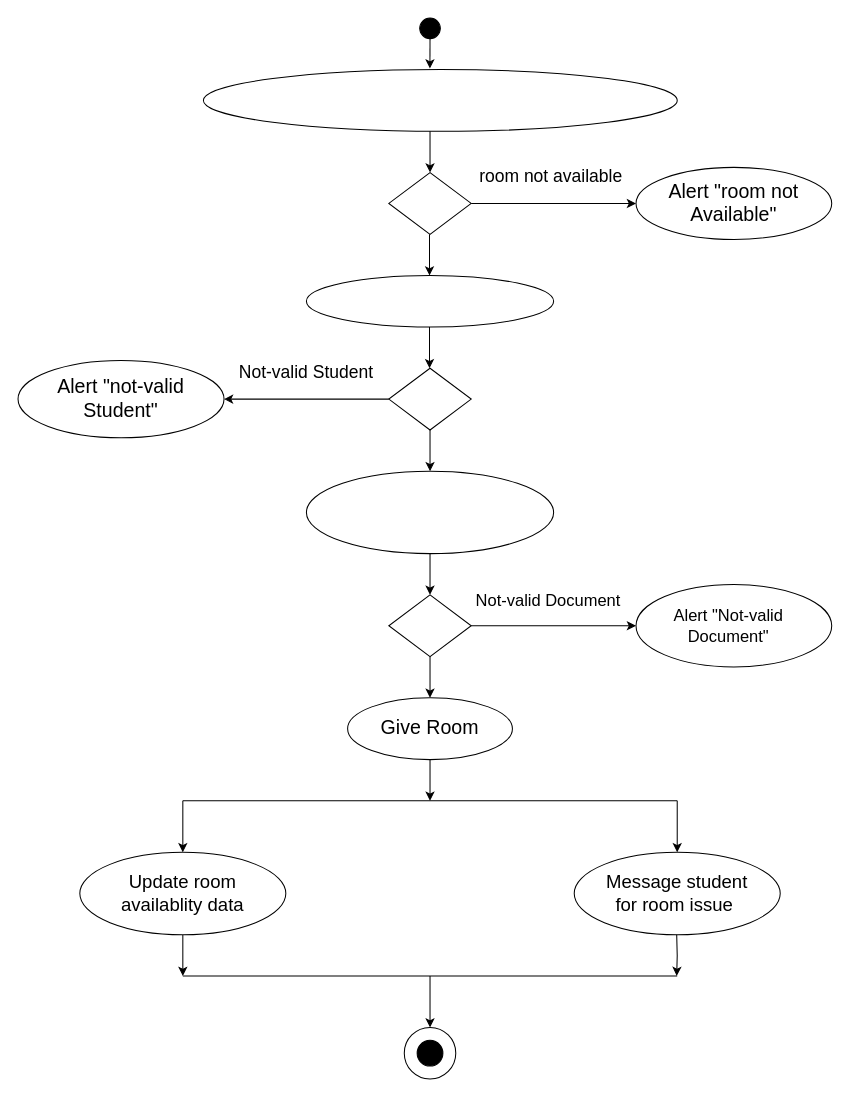
The diagram is 850 pixels wide and 1097 high, and some of its shapes have lost their labels. The shapes that lost their labels are listed below. From the top down, each one's centre as x and y in pixels, then its label:
At (x=439, y=99): "Chack availability room".
At (x=429, y=300): "Valid Student".
At (x=429, y=512): "Check valid document".
